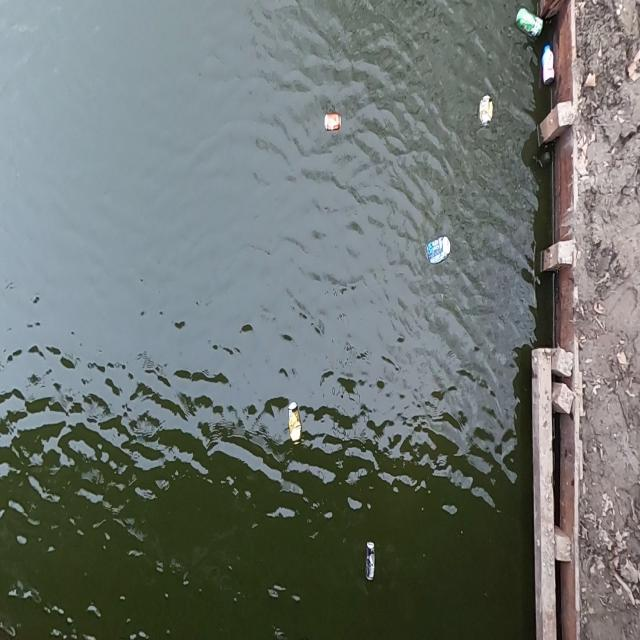Bouteille plastique: (540, 43, 558, 89)
Non plastique: (419, 226, 455, 277), (282, 394, 311, 453), (360, 534, 380, 590), (477, 91, 497, 141), (515, 10, 546, 40), (320, 109, 347, 139)
